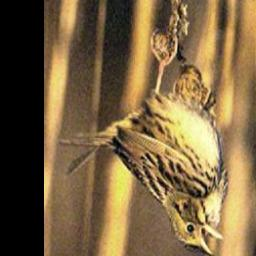Sparrow: (56, 31, 227, 256)
